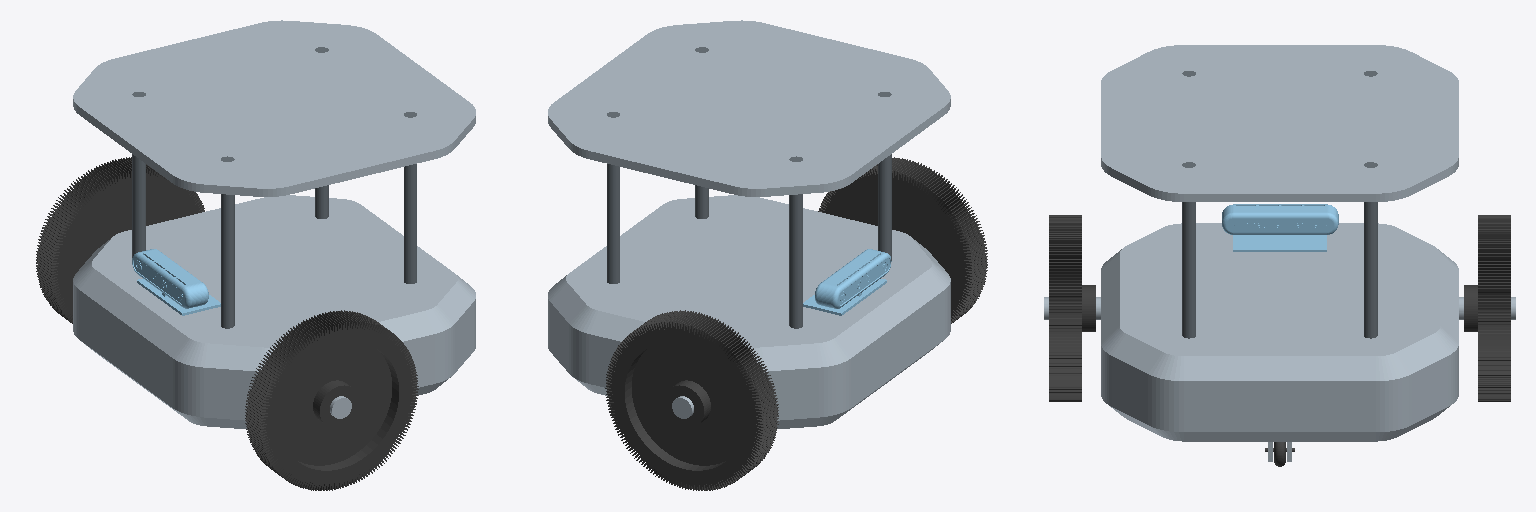
URDF robot description (mobile_robot):
<?xml version='1.0' encoding='utf-8'?>
<robot name="mobile_robot">
  <link name="bar">
    <inertial>
      <mass value="0.0525726" />
      <origin xyz="1.53395e-19 -3.85186e-34 0.125" rpy="0 -0 0" />
      <inertia ixx="0.000274555" ixy="0" ixz="0" iyy="0.000274555" iyz="0" izz="1.4786e-06" />
    </inertial>
    <visual>
      <origin xyz="0 -4.59243e-19 0" rpy="0 -0 0" />
      <geometry>
        <mesh filename="package://mobile_robot/meshes/bar.stl" scale="1 1 1" />
      </geometry>
      <material name="0.439216_0.474510_0.501961_0.000000_0.000000">
        <color rgba="0.439216 0.47451 0.501961 1" />
      </material>
    </visual>
    <collision>
      <origin xyz="0.000000 0.000000 0.125000" rpy="0 0 0" />
      <geometry>
        <box size="0.015000 0.014978 0.250000" />
      </geometry>
    </collision>
  </link>
  <link name="bar_1">
    <inertial>
      <mass value="0.0525726" />
      <origin xyz="1.53395e-19 -3.85186e-34 0.125" rpy="0 -0 0" />
      <inertia ixx="0.000274555" ixy="0" ixz="0" iyy="0.000274555" iyz="0" izz="1.4786e-06" />
    </inertial>
    <visual>
      <origin xyz="0 -4.59243e-19 0" rpy="0 -0 0" />
      <geometry>
        <mesh filename="package://mobile_robot/meshes/bar.stl" scale="1 1 1" />
      </geometry>
      <material name="0.439216_0.474510_0.501961_0.000000_0.000000">
        <color rgba="0.439216 0.47451 0.501961 1" />
      </material>
    </visual>
    <collision>
      <origin xyz="0.000000 0.000000 0.125000" rpy="0 0 0" />
      <geometry>
        <box size="0.015000 0.014978 0.250000" />
      </geometry>
    </collision>
  </link>
  <link name="bar_2">
    <inertial>
      <mass value="0.0525726" />
      <origin xyz="1.53395e-19 -3.85186e-34 0.125" rpy="0 -0 0" />
      <inertia ixx="0.000274555" ixy="0" ixz="0" iyy="0.000274555" iyz="0" izz="1.4786e-06" />
    </inertial>
    <visual>
      <origin xyz="0 -4.59243e-19 0" rpy="0 -0 0" />
      <geometry>
        <mesh filename="package://mobile_robot/meshes/bar.stl" scale="1 1 1" />
      </geometry>
      <material name="0.439216_0.474510_0.501961_0.000000_0.000000">
        <color rgba="0.439216 0.47451 0.501961 1" />
      </material>
    </visual>
    <collision>
      <origin xyz="0.000000 0.000000 0.125000" rpy="0 0 0" />
      <geometry>
        <box size="0.015000 0.014978 0.250000" />
      </geometry>
    </collision>
  </link>
  <link name="bar_3">
    <inertial>
      <mass value="0.0525726" />
      <origin xyz="1.53395e-19 -3.85186e-34 0.125" rpy="0 -0 0" />
      <inertia ixx="0.000274555" ixy="0" ixz="0" iyy="0.000274555" iyz="0" izz="1.4786e-06" />
    </inertial>
    <visual>
      <origin xyz="0 -4.59243e-19 0" rpy="0 -0 0" />
      <geometry>
        <mesh filename="package://mobile_robot/meshes/bar.stl" scale="1 1 1" />
      </geometry>
      <material name="0.439216_0.474510_0.501961_0.000000_0.000000">
        <color rgba="0.439216 0.47451 0.501961 1" />
      </material>
    </visual>
    <collision>
      <origin xyz="0.000000 0.000000 0.125000" rpy="0 0 0" />
      <geometry>
        <box size="0.015000 0.014978 0.250000" />
      </geometry>
    </collision>
  </link>
  <link name="base">
    <inertial>
      <mass value="15.1111" />
      <origin xyz="-0.000219092 -1.73224e-07 0.0499034" rpy="0 -0 0" />
      <inertia ixx="0.171627" ixy="-1.29454e-07" ixz="4.93826e-05" iyy="0.164228" iyz="5.77083e-09" izz="0.312047" />
    </inertial>
    <visual>
      <origin xyz="0 0 0" rpy="0 -0 0" />
      <geometry>
        <mesh filename="package://mobile_robot/meshes/base.stl" scale="1 1 1" />
      </geometry>
      <material name="0.713725_0.760784_0.800000_0.000000_0.000000">
        <color rgba="0.713726 0.760784 0.8 1" />
      </material>
    </visual>
    <collision>
      <origin xyz="0.000000 0.000000 0.045000" rpy="0 0 0" />
      <geometry>
        <box size="0.374166 0.500716 0.110000" />
      </geometry>
    </collision>
  </link>
  <link name="caster_socket">
    <inertial>
      <mass value="0.0119725" />
      <origin xyz="7.45081e-19 1.58538e-07 -0.0137698" rpy="0 -0 0" />
      <inertia ixx="2.20545e-06" ixy="0" ixz="0" iyy="1.71246e-06" iyz="1.15412e-11" izz="1.92329e-06" />
    </inertial>
    <visual>
      <origin xyz="2.23244e-18 -2.41726e-18 -0.022" rpy="0 -0 0" />
      <geometry>
        <mesh filename="package://mobile_robot/meshes/caster_socket.stl" scale="1 1 1" />
      </geometry>
      <material name="0.713725_0.760784_0.800000_0.000000_0.000000">
        <color rgba="0.713726 0.760784 0.8 1" />
      </material>
    </visual>
    <collision>
      <origin xyz="0.000000 0.000000 0.007000" rpy="0 0 0" />
      <geometry>
        <box size="0.026473 0.026474 0.030000" />
      </geometry>
    </collision>
  </link>
  <link name="caster_wheel">
    <inertial>
      <mass value="0.0130779" />
      <origin xyz="1.10794e-19 -5.30437e-19 -3.80835e-19" rpy="0 -0 0" />
      <inertia ixx="1.09879e-06" ixy="0" ixz="0" iyy="1.81484e-06" iyz="0" izz="1.09879e-06" />
    </inertial>
    <visual>
      <origin xyz="0 -1.73472e-18 0" rpy="0 -0 0" />
      <geometry>
        <mesh filename="package://mobile_robot/meshes/caster_wheel.stl" scale="1 1 1" />
      </geometry>
      <material name="0.301961_0.301961_0.301961_0.000000_0.000000">
        <color rgba="0.301961 0.301961 0.301961 1" />
      </material>
    </visual>
    <collision>
      <origin xyz="0.000000 0.000000 0.000000" rpy="-1.57079632679 0 0" />
      <geometry>
        <cylinder radius="0.017991" length="0.032000" />
      </geometry>
    </collision>
  </link>
  <link name="depth_camera">
    <inertial>
      <mass value="0.10278" />
      <origin xyz="-0.000224313 -0.00887366 0.0180682" rpy="0 -0 0" />
      <inertia ixx="1.99451e-05" ixy="-4.72461e-08" ixz="9.49322e-08" iyy="0.000125466" iyz="2.64592e-06" izz="0.000126152" />
    </inertial>
    <visual>
      <origin xyz="5.19288e-05 -0.000172347 0.00608878" rpy="0 -0 0" />
      <geometry>
        <mesh filename="package://mobile_robot/meshes/depth_camera.stl" scale="1 1 1" />
      </geometry>
      <material name="0.615686_0.811765_0.929412_0.000000_0.000000">
        <color rgba="0.615686 0.811765 0.929412 1" />
      </material>
    </visual>
    <collision>
      <origin xyz="-0.000338 -0.000040 0.011011" rpy="0 0 0" />
      <geometry>
        <box size="0.124000 0.050425 0.034200" />
      </geometry>
    </collision>
  </link>
  <link name="plate">
    <inertial>
      <mass value="1.56025" />
      <origin xyz="0.114907 0.0964181 -0.005" rpy="0 -0 0" />
      <inertia ixx="0.0168214" ixy="0" ixz="0" iyy="0.0163518" iyz="0" izz="0.0331472" />
    </inertial>
    <visual>
      <origin xyz="0.114907 0.0964181 -0.01" rpy="0 -0 0" />
      <geometry>
        <mesh filename="package://mobile_robot/meshes/plate.stl" scale="1 1 1" />
      </geometry>
      <material name="0.713725_0.760784_0.800000_0.000000_0.000000">
        <color rgba="0.713726 0.760784 0.8 1" />
      </material>
    </visual>
    <collision>
      <origin xyz="0.114907 0.0964181 -0.005000" rpy="0 0 0" />
      <geometry>
        <box size="0.374166 0.380716 0.010000" />
      </geometry>
    </collision>
  </link>
  <link name="root" />
  <link name="rplidar">
    <inertial>
      <mass value="0.0997506" />
      <origin xyz="0.0100884 3.53251e-05 0.0151831" rpy="0 -0 0" />
      <inertia ixx="4.28612e-05" ixy="2.8632e-07" ixz="1.36569e-05" iyy="8.02911e-05" iyz="-1.31345e-06" izz="8.83408e-05" />
    </inertial>
    <visual>
      <origin xyz="8.3964e-05 -0.000444572 0" rpy="0 -0 0" />
      <geometry>
        <mesh filename="package://mobile_robot/meshes/rplidar.stl" scale="1 1 1" />
      </geometry>
      <material name="0.898039_0.913725_0.925490_0.000000_0.000000">
        <color rgba="0.898039 0.913725 0.92549 1" />
      </material>
    </visual>
    <collision>
      <origin xyz="0.013251 -0.000034 0.013300" rpy="0 0 0" />
      <geometry>
        <box size="0.099000 0.070926 0.056600" />
      </geometry>
    </collision>
  </link>
  <link name="wheel_left">
    <inertial>
      <mass value="0.922424" />
      <origin xyz="0.0037479 1.94871e-16 -2.1079e-15" rpy="0 -0 0" />
      <inertia ixx="0.00462916" ixy="0" ixz="0" iyy="0.00240533" iyz="0" izz="0.00240533" />
    </inertial>
    <visual>
      <origin xyz="0 0 -7.65404e-19" rpy="0 -0 0" />
      <geometry>
        <mesh filename="package://mobile_robot/meshes/wheel.stl" scale="1 1 1" />
      </geometry>
      <material name="0.301961_0.301961_0.301961_0.000000_0.000000">
        <color rgba="0.301961 0.301961 0.301961 1" />
      </material>
    </visual>
    <collision>
      <origin xyz="0.000000 0.000000 0.000000" rpy="0 1.57079632679 0" />
      <geometry>
        <cylinder radius="0.099117" length="0.050000" />
      </geometry>
    </collision>
  </link>
  <link name="wheel_right">
    <inertial>
      <mass value="0.922424" />
      <origin xyz="0.0037479 1.94871e-16 -2.1079e-15" rpy="0 -0 0" />
      <inertia ixx="0.00462916" ixy="0" ixz="0" iyy="0.00240533" iyz="0" izz="0.00240533" />
    </inertial>
    <visual>
      <origin xyz="0 0 -7.65404e-19" rpy="0 -0 0" />
      <geometry>
        <mesh filename="package://mobile_robot/meshes/wheel.stl" scale="1 1 1" />
      </geometry>
      <material name="0.301961_0.301961_0.301961_0.000000_0.000000">
        <color rgba="0.301961 0.301961 0.301961 1" />
      </material>
    </visual>
    <collision>
      <origin xyz="0.000000 0.000000 0.000000" rpy="0 1.57079632679 0" />
      <geometry>
        <cylinder radius="0.099117" length="0.050000" />
      </geometry>
    </collision>
  </link>
  <joint name="bar_to_base1" type="fixed">
    <origin xyz="0.114907 -0.0964181 0.05" rpy="0 -0 0" />
    <axis xyz="0 0 -1" />
    <parent link="base" />
    <child link="bar_1" />
  </joint>
  <joint name="bar_to_base2" type="fixed">
    <origin xyz="-0.114907 -0.0964181 0.05" rpy="0 -0 0" />
    <axis xyz="0 0 -1" />
    <parent link="base" />
    <child link="bar_3" />
  </joint>
  <joint name="bar_to_base3" type="fixed">
    <origin xyz="0.114907 0.0964181 0.05" rpy="0 -0 0" />
    <axis xyz="0 0 -1" />
    <parent link="base" />
    <child link="bar" />
  </joint>
  <joint name="bar_to_base4" type="fixed">
    <origin xyz="-0.114907 0.0964181 0.05" rpy="0 -0 0" />
    <axis xyz="0 0 -1" />
    <parent link="base" />
    <child link="bar_2" />
  </joint>
  <joint name="caster_socket_to_base" type="continuous">
    <origin xyz="0.12 -1.14925e-17 -0.01" rpy="0 -0 0" />
    <axis xyz="0 0 1" />
    <dynamics damping="0.5" friction="0.05"/>
    <parent link="base" />
    <child link="caster_socket" />
  </joint>
  <joint name="caster_wheel_to_socket" type="continuous">
    <origin xyz="0 5e-07 -0.022" rpy="0 -0 0" />
    <axis xyz="0 1 0" />
    <dynamics damping="0.5" friction="0.05"/>
    <parent link="caster_socket" />
    <child link="caster_wheel" />
  </joint>
  <joint name="depth_camera_to_base" type="fixed">
    <origin xyz="-0.12 -1.20889e-16 0.1" rpy="0 0 -1.5708" />
    <axis xyz="0 0 -1" />
    <parent link="base" />
    <child link="depth_camera" />
  </joint>
  <joint name="hanging_node_to_root_joint" type="fixed">
    <origin xyz="-0.000225828 -0.000582711 -0.0756785" rpy="0 -0 0" />
    <axis xyz="0 0 1" />
    <parent link="root" />
    <child link="base" />
  </joint>
  <joint name="plate_to_bar" type="fixed">
    <origin xyz="-1.38778e-17 0 0.25" rpy="0 -0 0" />
    <axis xyz="0 0 -1" />
    <parent link="bar_3" />
    <child link="plate" />
  </joint>
  <joint name="rplidar_to_plate" type="fixed">
    <origin xyz="-0.00509333 0.0964181 0.015" rpy="0 0 0" />
    <axis xyz="0 0 -1" />
    <parent link="plate" />
    <child link="rplidar" />
  </joint>
  <joint name="wheel_left_to_base" type="continuous">
    <origin xyz="-0.06 -0.220358 0.05" rpy="1.5708 -0 -1.5708" />
    <axis xyz="1 0 0" />
    <dynamics damping="0.5" friction="0.05"/>
    <parent link="base" />
    <child link="wheel_left" />
  </joint>
  <joint name="wheel_right_to_base" type="continuous">
    <origin xyz="-0.06 0.220358 0.05" rpy="-1.5708 -0 1.5708" />
    <axis xyz="-1 0 0" />
    <dynamics damping="0.5" friction="0.05"/>
    <parent link="base" />
    <child link="wheel_right" />
  </joint>

  <gazebo reference="wheel_left">
    <mu1>2.0</mu1>
    <mu2>2.0</mu2>
    <kp>1000000.0</kp>
    <kd>100.0</kd>
    <minDepth>0.001</minDepth>
    <maxVel>0.1</maxVel>
  </gazebo>

  <gazebo reference="wheel_right">
    <mu1>2.0</mu1>
    <mu2>2.0</mu2>
    <kp>1000000.0</kp>
    <kd>100.0</kd>
    <minDepth>0.001</minDepth>
    <maxVel>0.1</maxVel>
  </gazebo>

  <gazebo reference="caster_wheel">
    <mu1>0.3</mu1>
    <mu2>0.3</mu2>
  </gazebo>


  <!-- Depth Camera controller plugin -->
  <gazebo reference="depth_camera">
    <sensor name="depth_camera" type="rgbd_camera">
      <pose>-0.120226 -0.0 0.0243214 0 0 -1.5708</pose>
      <always_on>1</always_on>
      <update_rate>30</update_rate>
      <topic>/camera</topic>
      <camera name="intel_realsense_d455">
        <horizontal_fov>1.50098</horizontal_fov>
        <lens>
          <intrinsics>
            <!-- fx = fy = width / ( 2 * tan (hfov / 2 ) ) -->
            <fx>343.159</fx>
            <fy>343.159</fy>
            <!-- cx = ( width - 1 ) / 2 -->
            <cx>319.5</cx>
            <!-- cy = ( height - 1 ) / 2 -->
            <cy>179.5</cy>
            <s>0</s>
          </intrinsics>
        </lens>
        <distortion>
          <k1>0.0</k1>
          <k2>0.0</k2>
          <k3>0.0</k3>
          <p1>0.0</p1>
          <p2>0.0</p2>
          <center>0.5 0.5</center>
        </distortion>
        <image>
          <width>640</width>
          <height>360</height>
          <format>R8G8B8</format>
        </image>
        <clip>
          <near>0.01</near>
          <far>300</far>
        </clip>
        <depth_camera>
          <clip>
            <near>0.1</near>
            <far>10</far>
          </clip>
        </depth_camera>
        <noise>
          <type>gaussian</type>
          <mean>0</mean>
          <stddev>0.007</stddev>
        </noise>
      </camera>
    </sensor>
  </gazebo>

  <!-- Lidar controller plugin -->
  <gazebo reference="rplidar">
    <sensor type="gpu_lidar" name="rplidar">
      <pose>0 0 0 0 0 3.14159265359</pose>
      <visualize>true</visualize>
      <update_rate>10</update_rate>
      <always_on>1</always_on>

      <topic>/scan</topic>

      <ray>
        <scan>
          <horizontal>
            <samples>360</samples>
            <resolution>1.0</resolution>
            <min_angle>0.0</min_angle>
            <max_angle>6.284</max_angle>
          </horizontal>
        </scan>

        <range>
          <min>0.10</min>
          <max>3.5</max>
          <resolution>0.015</resolution>
        </range>

        <noise>
          <type>gaussian</type>
          <mean>0.0</mean>
          <stddev>0.01</stddev>
        </noise>
      </ray>
    </sensor>
  </gazebo>

  <gazebo>
    <plugin filename="gz-sim-diff-drive-system"
        name="gz::sim::systems::DiffDrive">

      <left_joint>wheel_left_to_base</left_joint>
      <right_joint>wheel_right_to_base</right_joint>

      <wheel_separation>0.440716</wheel_separation>
      <wheel_radius>0.099117</wheel_radius>

      <topic>/cmd_vel</topic>

      <odom_topic>/odom</odom_topic>
      <frame_id>odom</frame_id>
      <child_frame_id>root</child_frame_id>

      <odom_publish_frequency>30</odom_publish_frequency>
      <tf_topic>/tf</tf_topic>
    </plugin>
  </gazebo>

  <gazebo>
    <plugin filename="gz-sim-joint-state-publisher-system" name="gz::sim::systems::JointStatePublisher">
      <topic>/joint_states</topic>
      <joint_name>wheel_left_to_base</joint_name>
      <joint_name>wheel_right_to_base</joint_name>
      <joint_name>caster_socket_to_base</joint_name>
      <joint_name>caster_wheel_to_socket</joint_name>
    </plugin>
  </gazebo>


</robot>

--- What the picture shows (computed from the rendered views, not written in the file) ---
Views: 3 orthographic renders of the robot side by side, from view 1: azimuth 30°, elevation 25°; view 2: azimuth 150°, elevation 25°; view 3: azimuth 270°, elevation 25°.
Robot: mobile_robot — 13 links, 12 joints (4 continuous, 8 fixed); root link root; default pose: all joints at 0.
Visible links, largest first — view 1: base, plate, wheel_left, wheel_right, depth_camera, bar_3, bar_1, bar_2; view 2: base, plate, wheel_right, wheel_left, depth_camera, bar_2, bar, bar_3; view 3: base, plate, wheel_left, wheel_right, depth_camera, bar, bar_1.
Boxes of the visible links, x1,y1,x2,y2 form: base: [73, 195, 475, 428]; plate: [73, 20, 475, 196]; wheel_left: [245, 310, 418, 490]; wheel_right: [36, 157, 204, 323]; depth_camera: [132, 249, 220, 315]; bar_3: [221, 156, 234, 328]; bar_1: [404, 112, 416, 283]; bar_2: [132, 92, 145, 257]; base: [548, 195, 950, 428]; plate: [548, 20, 950, 196]; wheel_right: [605, 310, 778, 490]; wheel_left: [818, 157, 987, 323]; depth_camera: [803, 249, 891, 315]; bar_2: [789, 156, 802, 328]; bar: [607, 112, 619, 283]; bar_3: [878, 92, 891, 260]; base: [1044, 223, 1515, 441]; plate: [1101, 45, 1458, 201]; wheel_left: [1049, 215, 1095, 401]; wheel_right: [1464, 215, 1510, 401]; depth_camera: [1222, 204, 1338, 251]; bar: [1364, 162, 1377, 338]; bar_1: [1182, 162, 1195, 338].
Size in the robot's own frame: 0.3742 by 0.5007 by 0.35 metres.
11 mesh visuals loaded from 8 distinct referenced files (7 binary STL); not drawn: 1 (reference not matched to a file when rendering).
